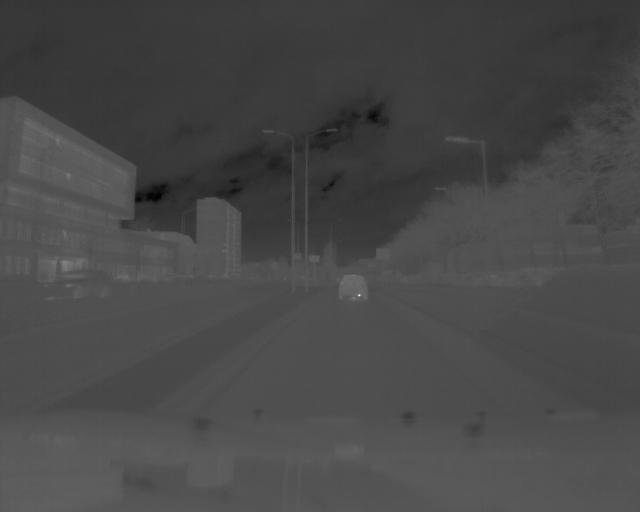car: (41, 269, 116, 302), (336, 271, 370, 301)
